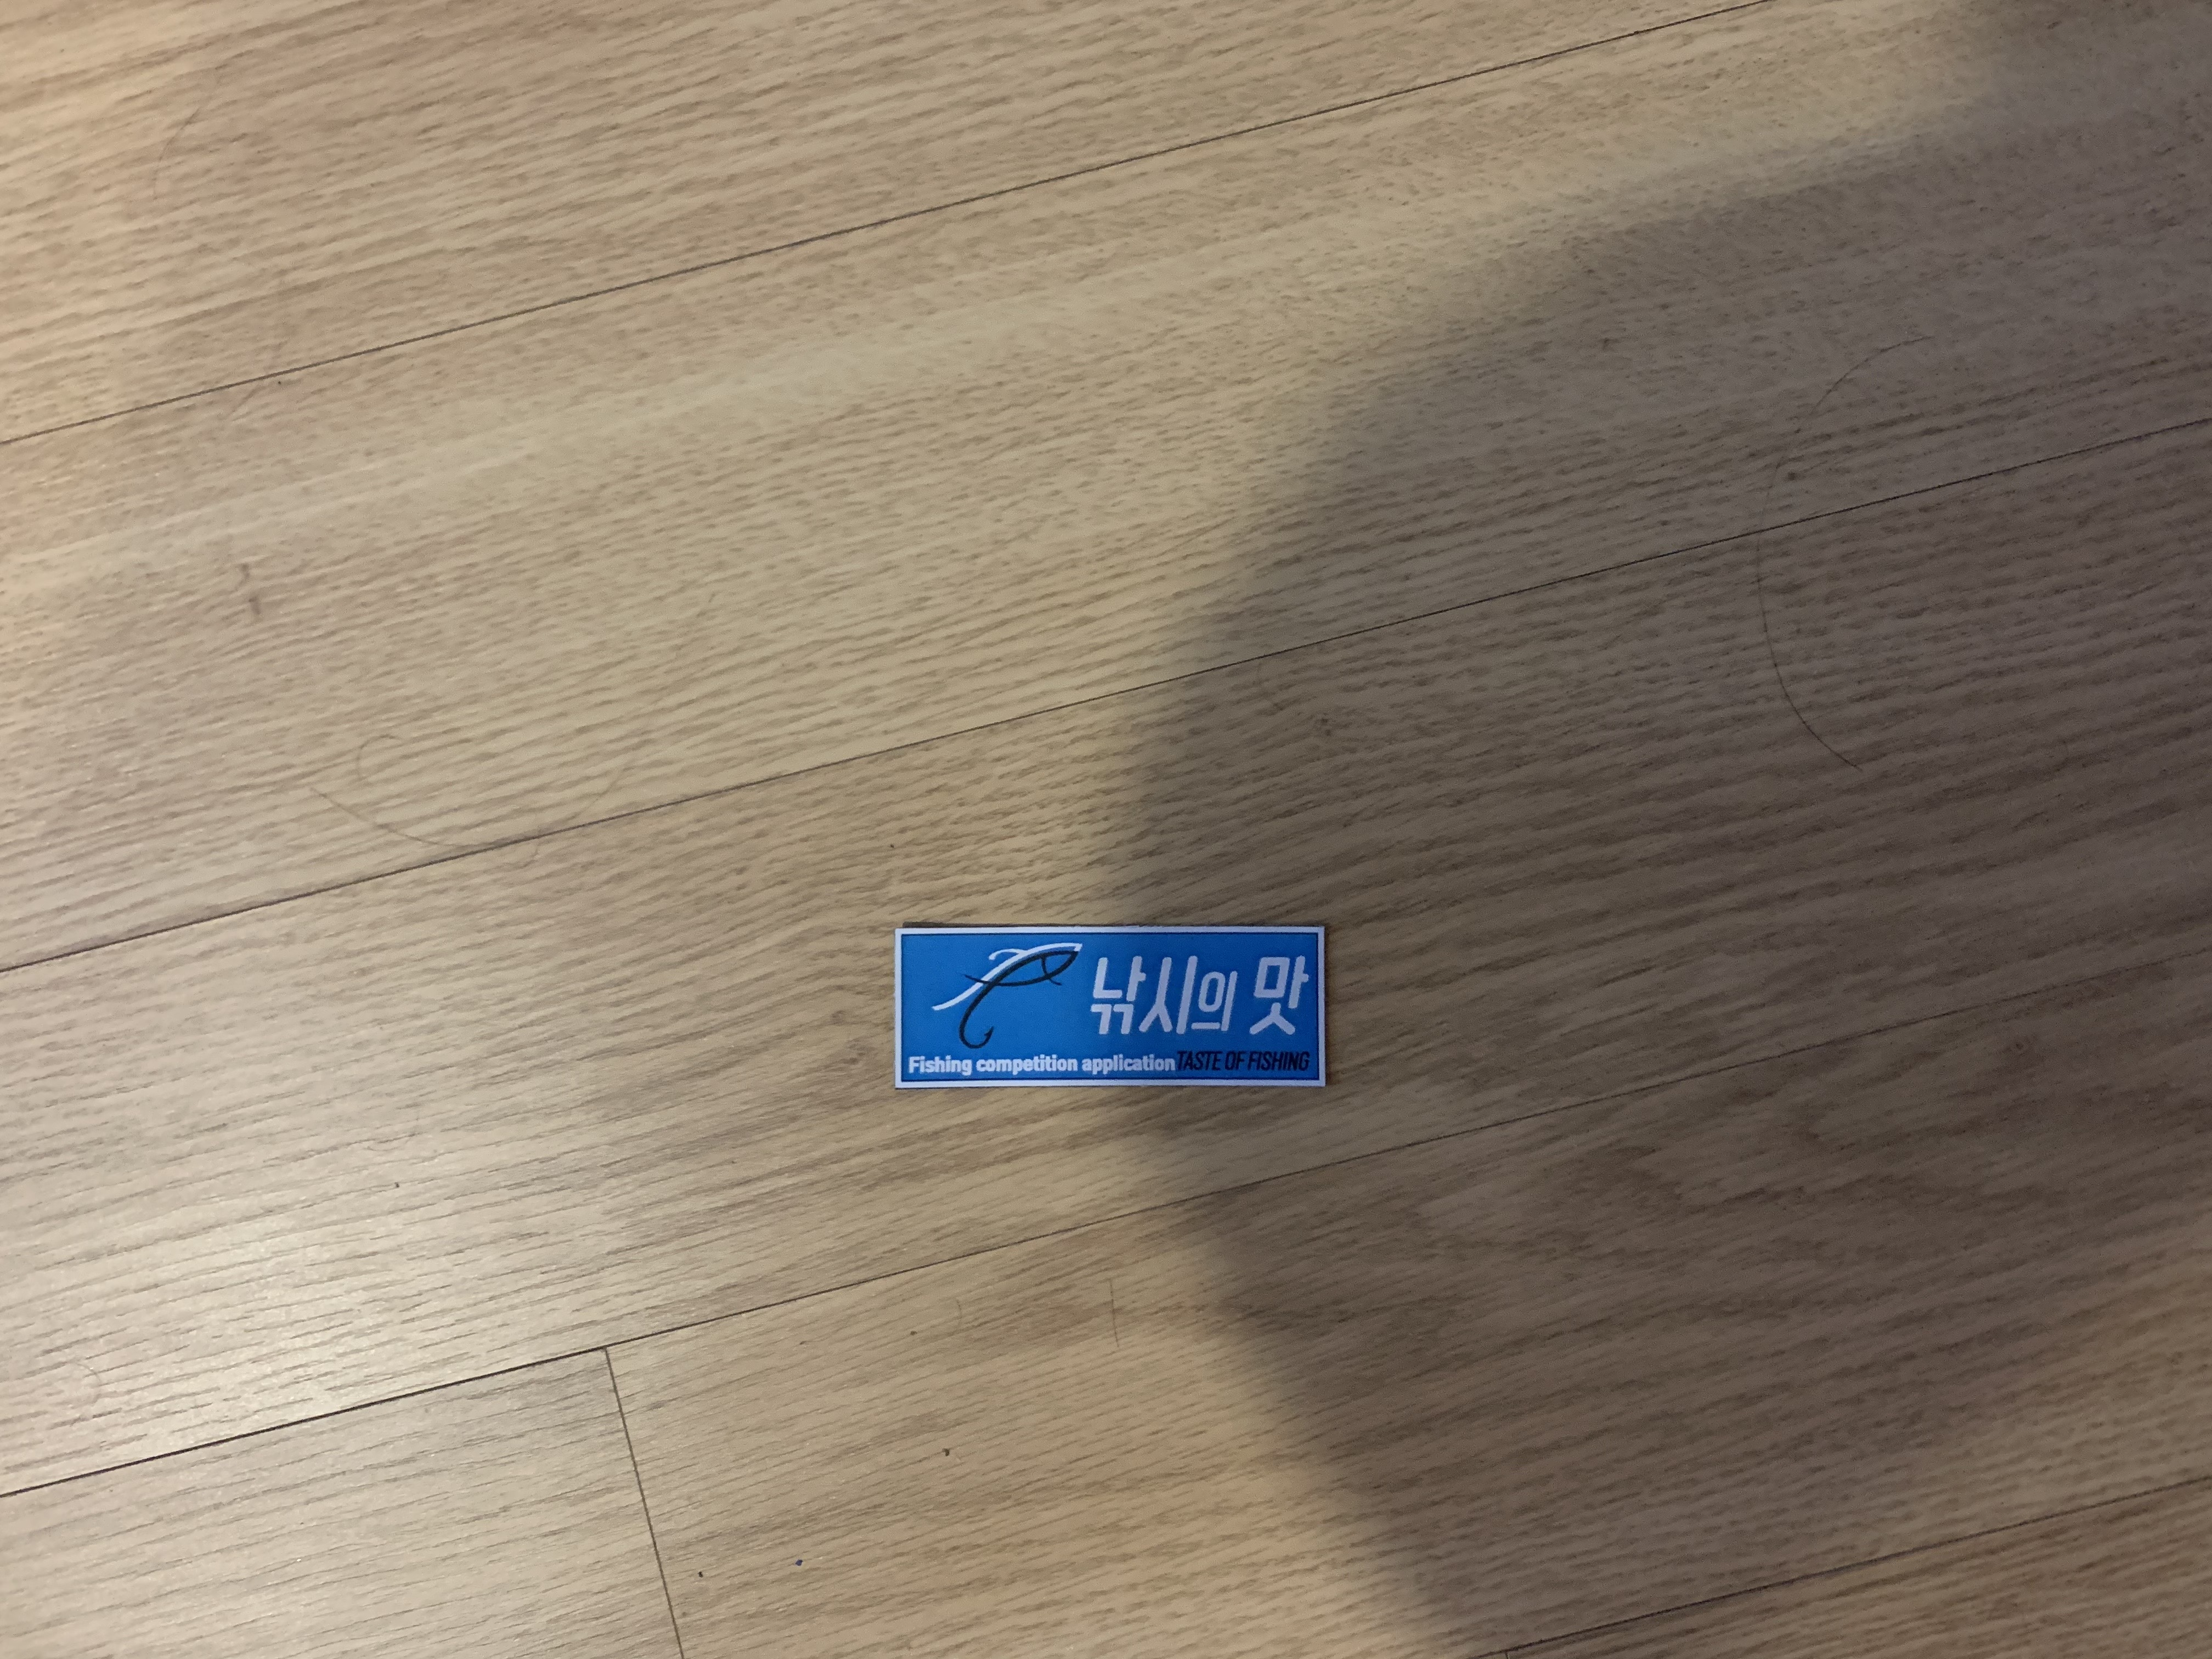tag: (895, 925, 1327, 1089)
